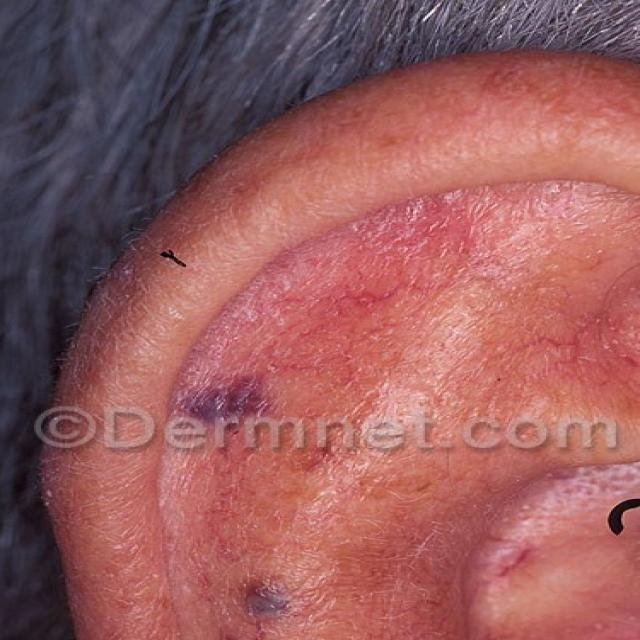Vascular Tumors: (217, 558, 311, 640), (175, 356, 259, 445)
